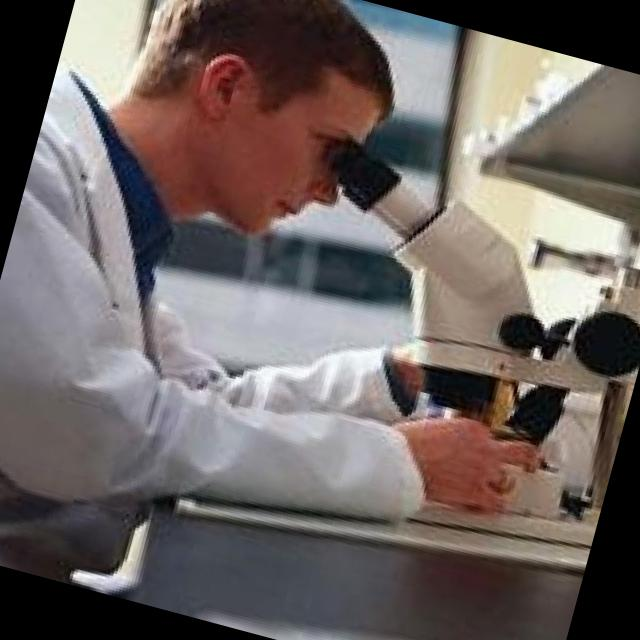no_vest: (0, 60, 265, 601)
